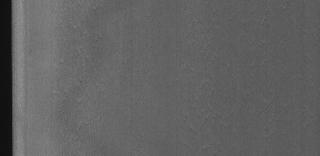silk spot: (52, 3, 112, 130)
